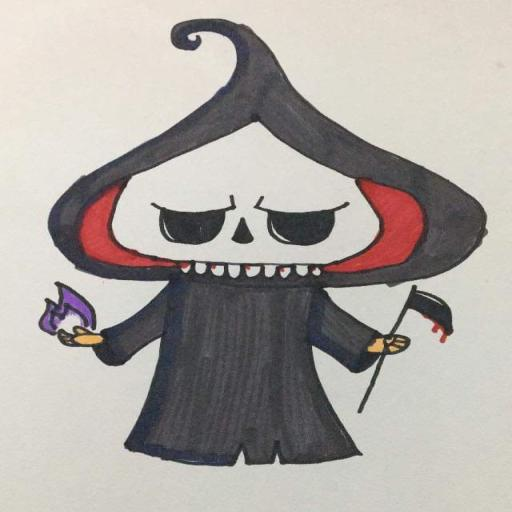person: (32, 18, 493, 485)
